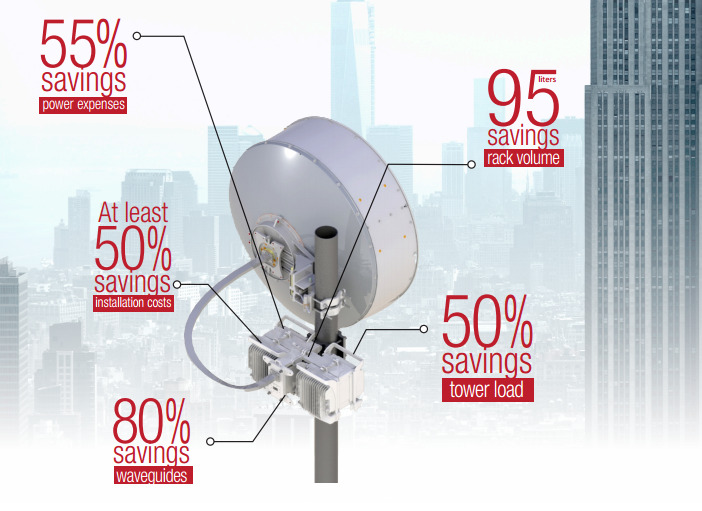ba: (229, 104, 425, 327)
